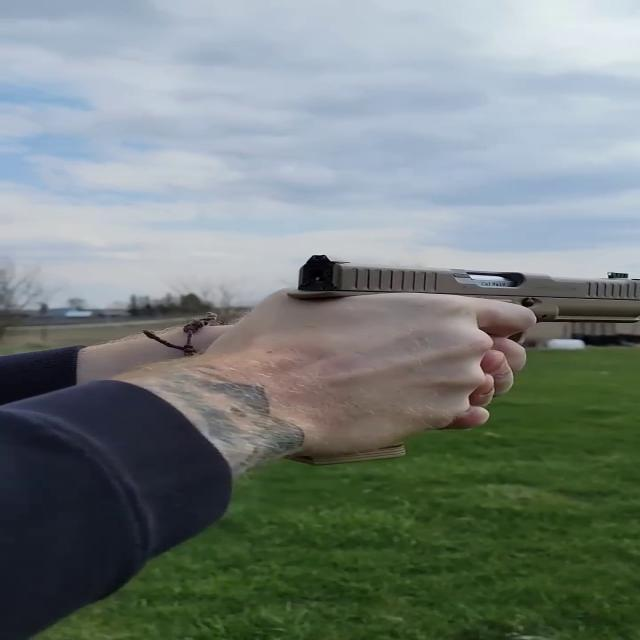Handgun: (238, 231, 640, 471)
